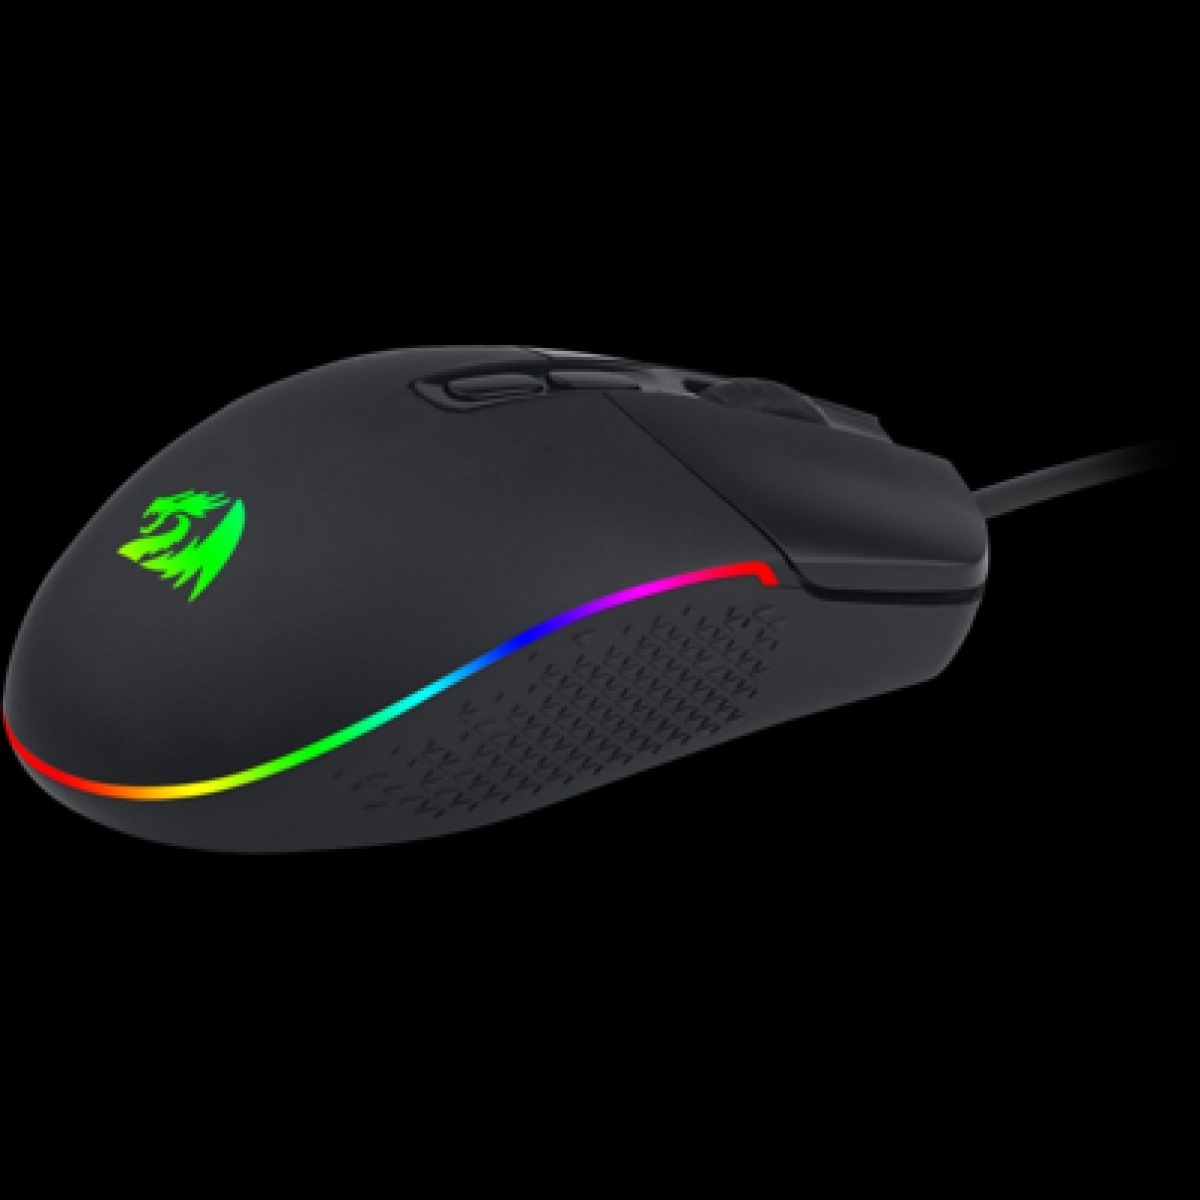mouse: (1, 316, 1011, 860)
